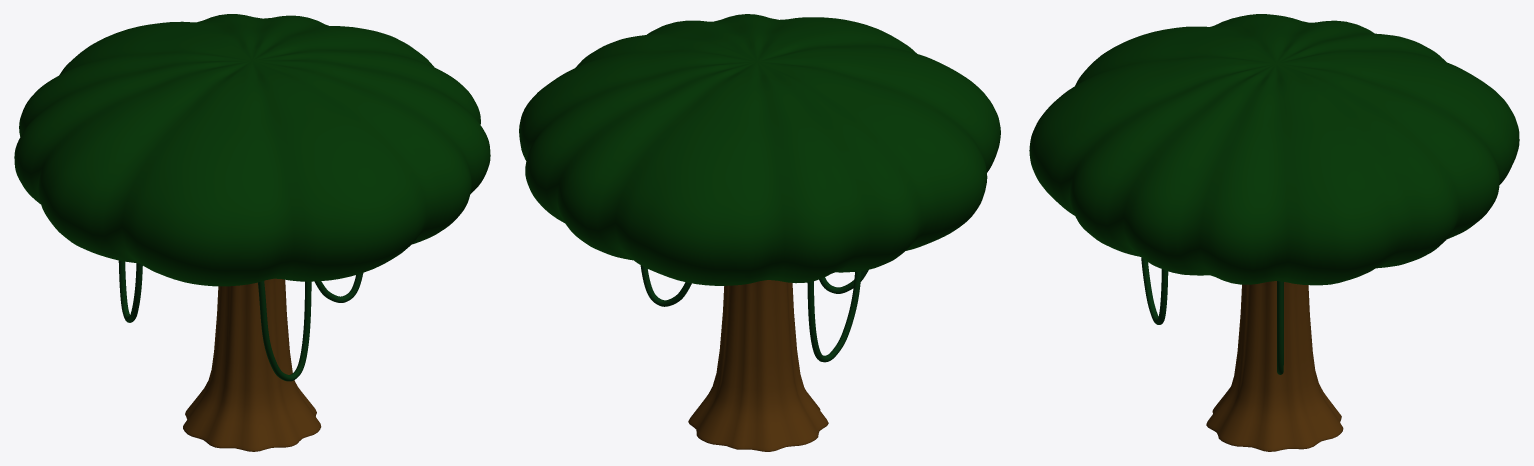
Rendered from Tree.fbx.
3 views of the same model, side by side, from view 1: azimuth 30°, elevation 25°; view 2: azimuth 150°, elevation 25°; view 3: azimuth 270°, elevation 25° (orthographic).
Visible parts, largest first — view 1: Cylinder, NurbsCurve.002; view 2: Cylinder, NurbsCurve.002; view 3: Cylinder, NurbsCurve.002.
Part boxes in pixels (x1,y1,x2,y2): Cylinder: [14, 14, 490, 451]; NurbsCurve.002: [118, 260, 363, 381]; Cylinder: [519, 14, 1000, 451]; NurbsCurve.002: [640, 265, 868, 362]; Cylinder: [1029, 14, 1519, 451]; NurbsCurve.002: [1141, 257, 1283, 374].
Size of the model in its own units: 9839 by 8208 by 10101.
